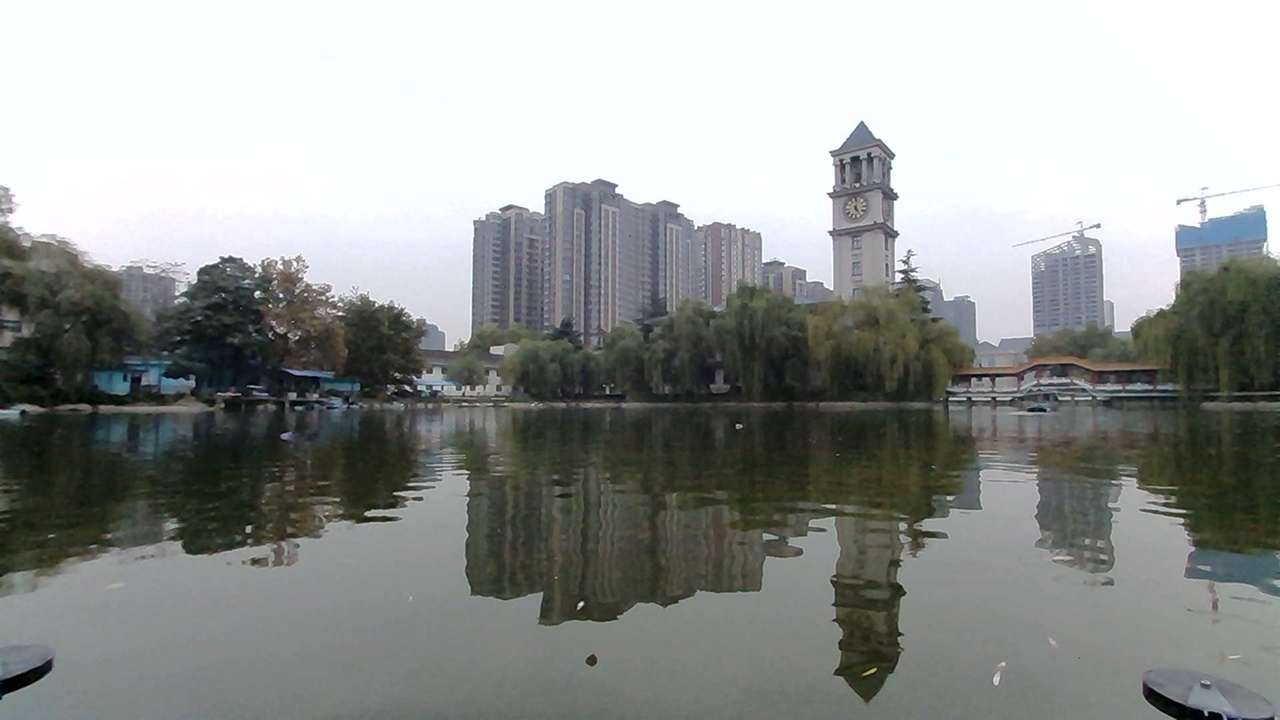bottle: (277, 418, 319, 448), (724, 419, 761, 442)
